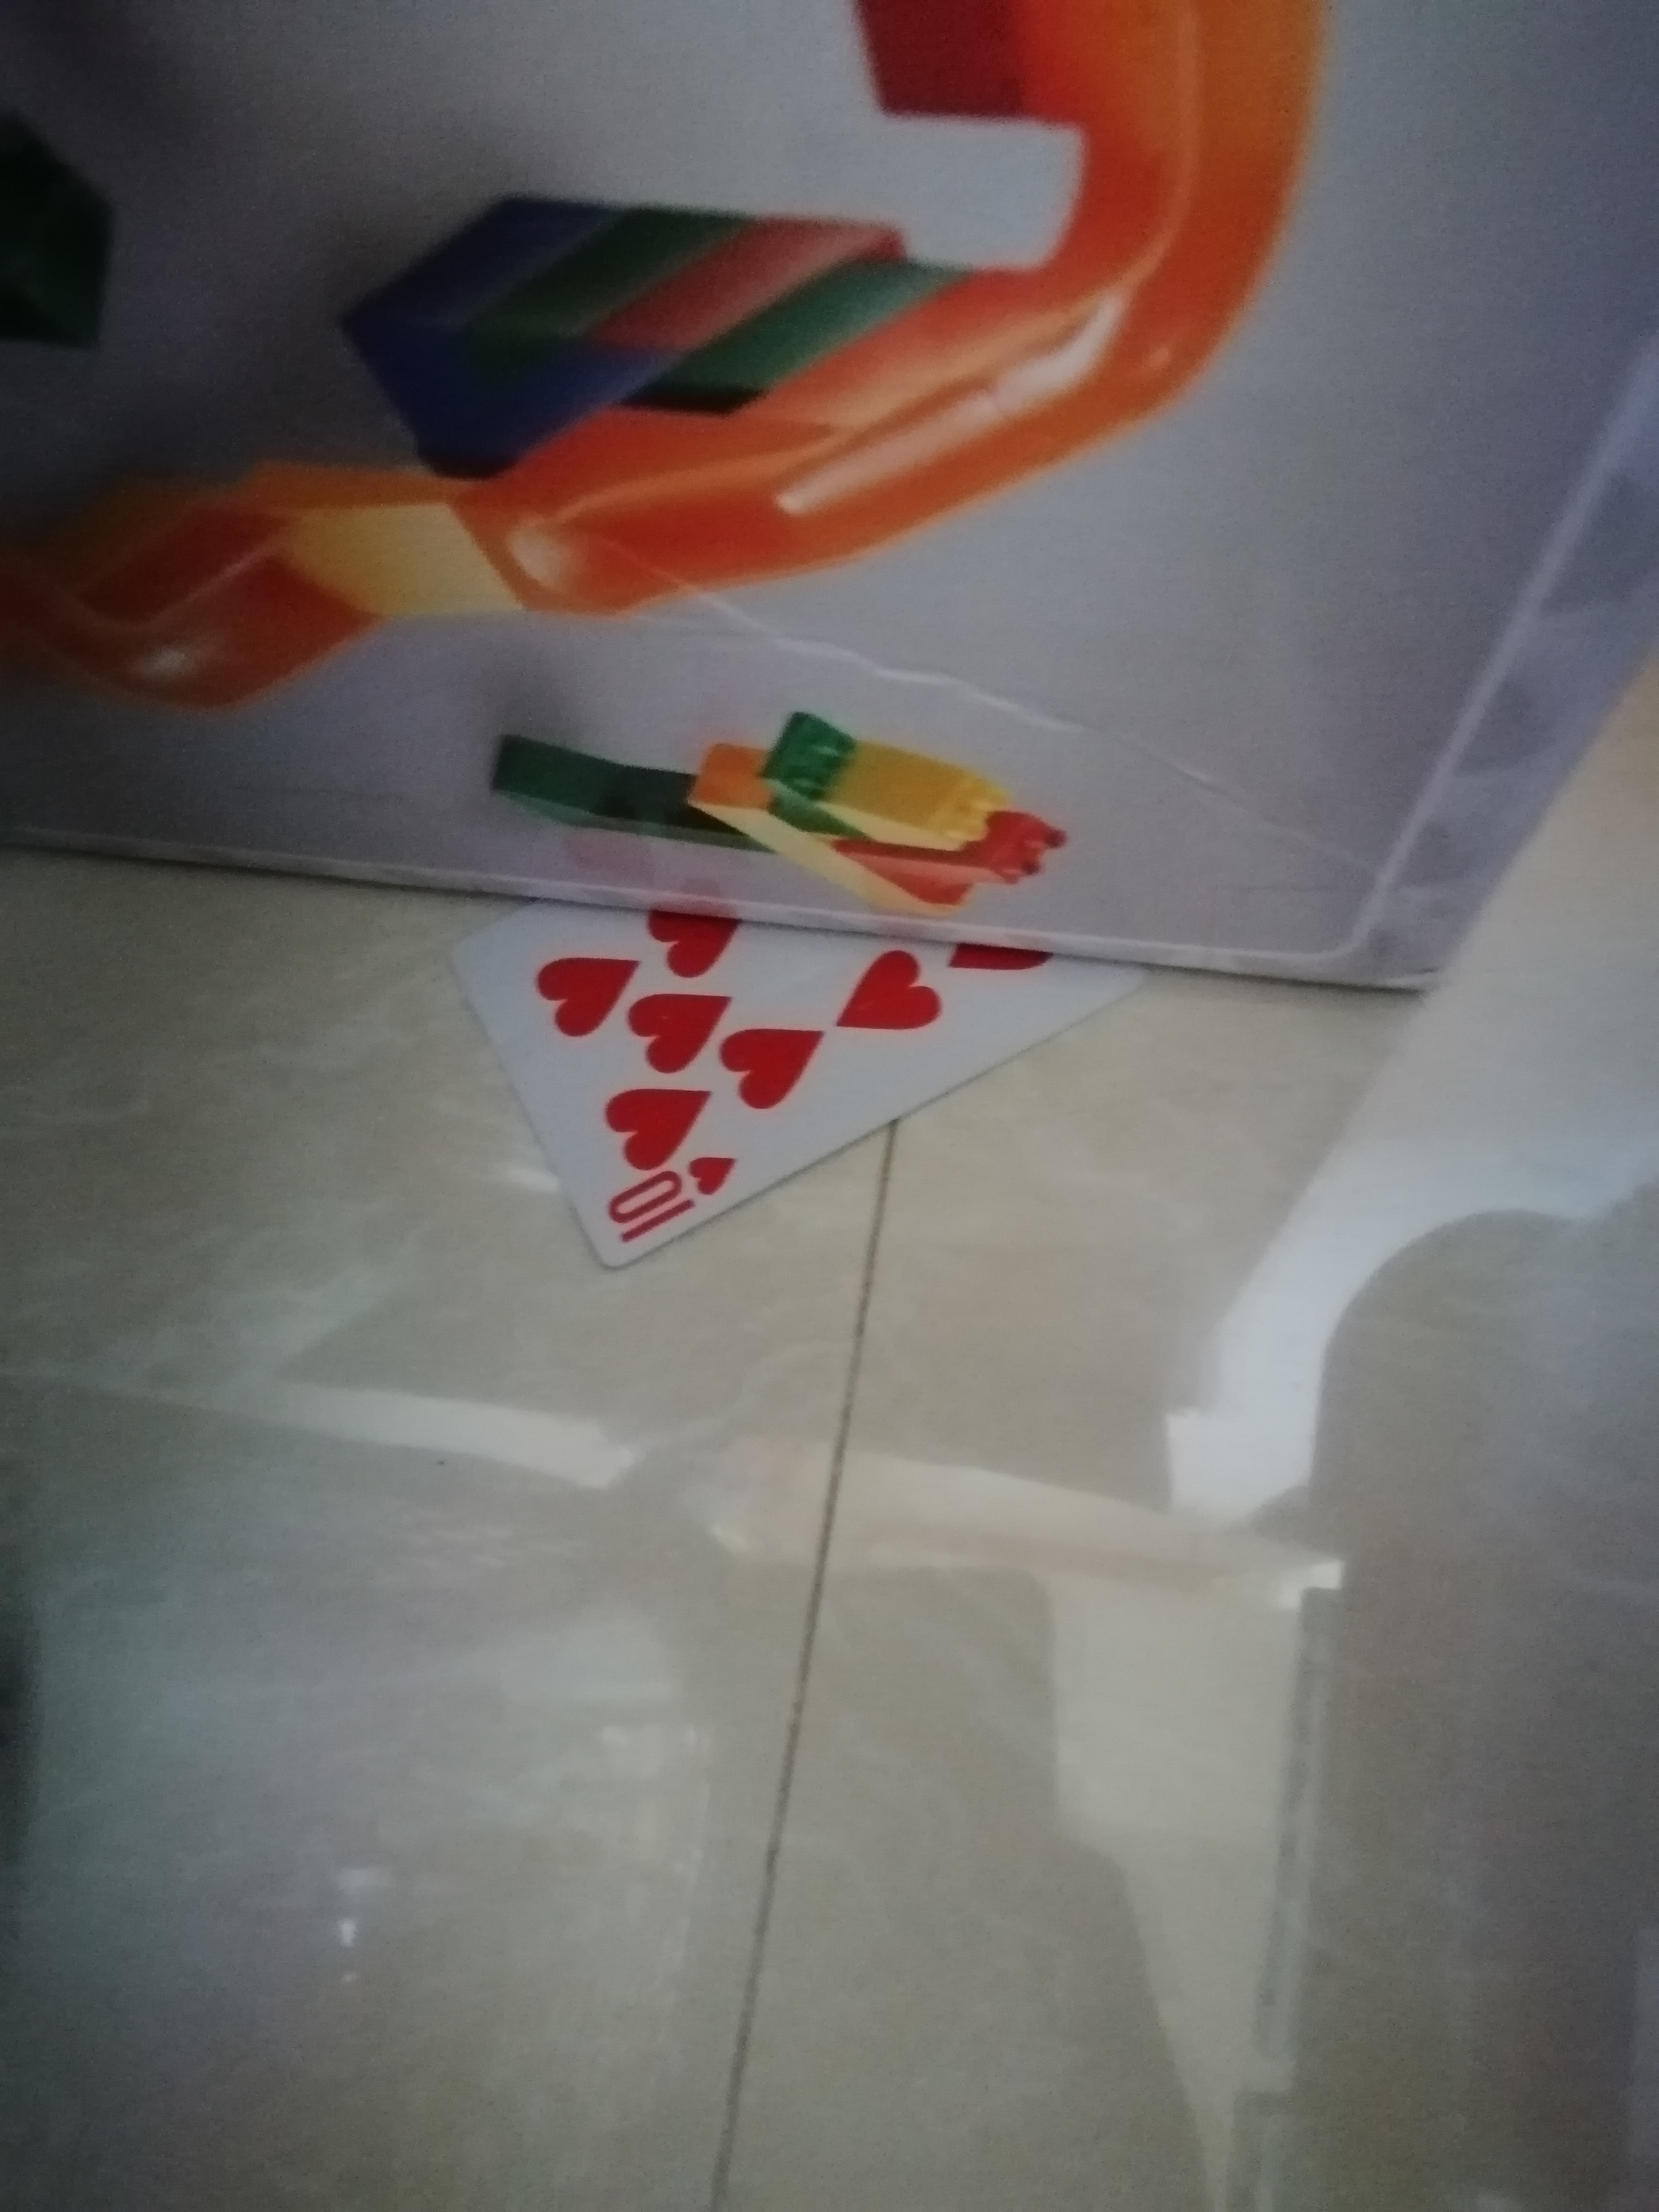ten: (455, 871, 1185, 1252)
